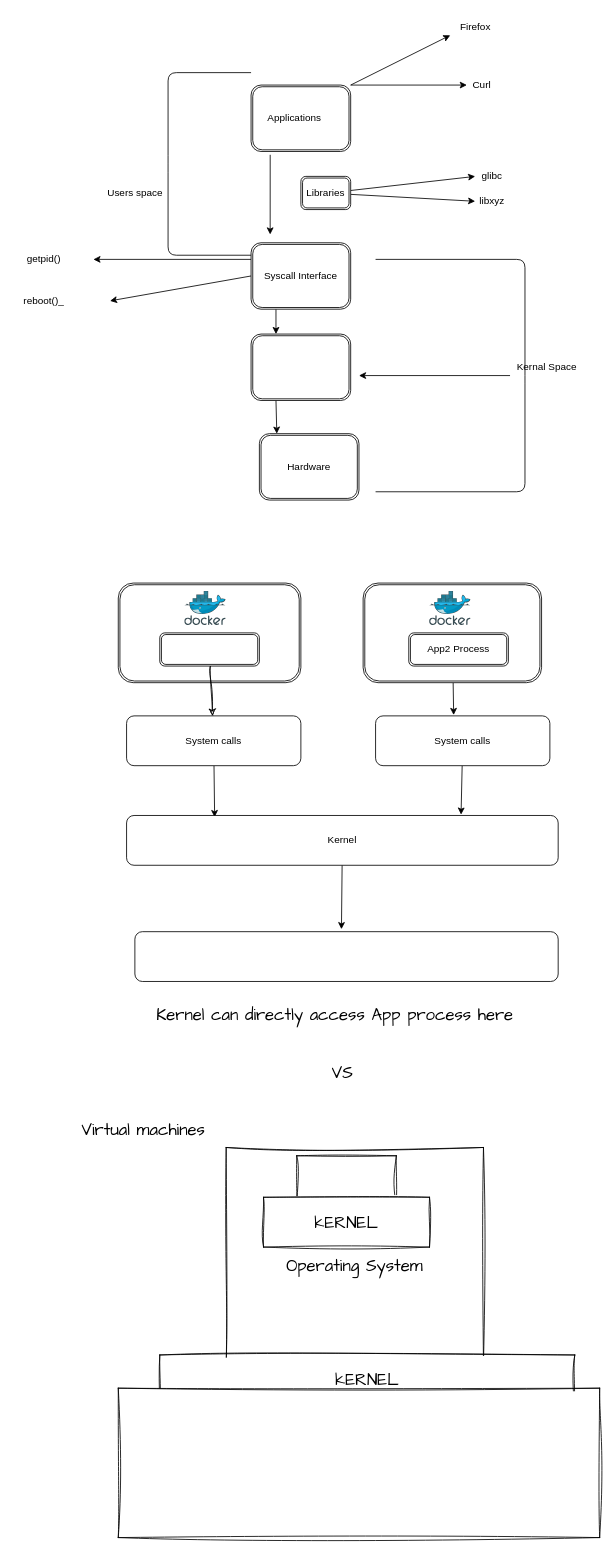
This 614x1552 diagram has some shape labels left out. The shapes that lost their labels are listed below. From the top down, each one's centre as x and y in pixels, then its label:
point 300,366: Linux Kernel
point 209,649: App1 Process
point 346,956: Hardwere
point 346,1180: APP PROCESS
point 358,1462: hRADWARE OS
